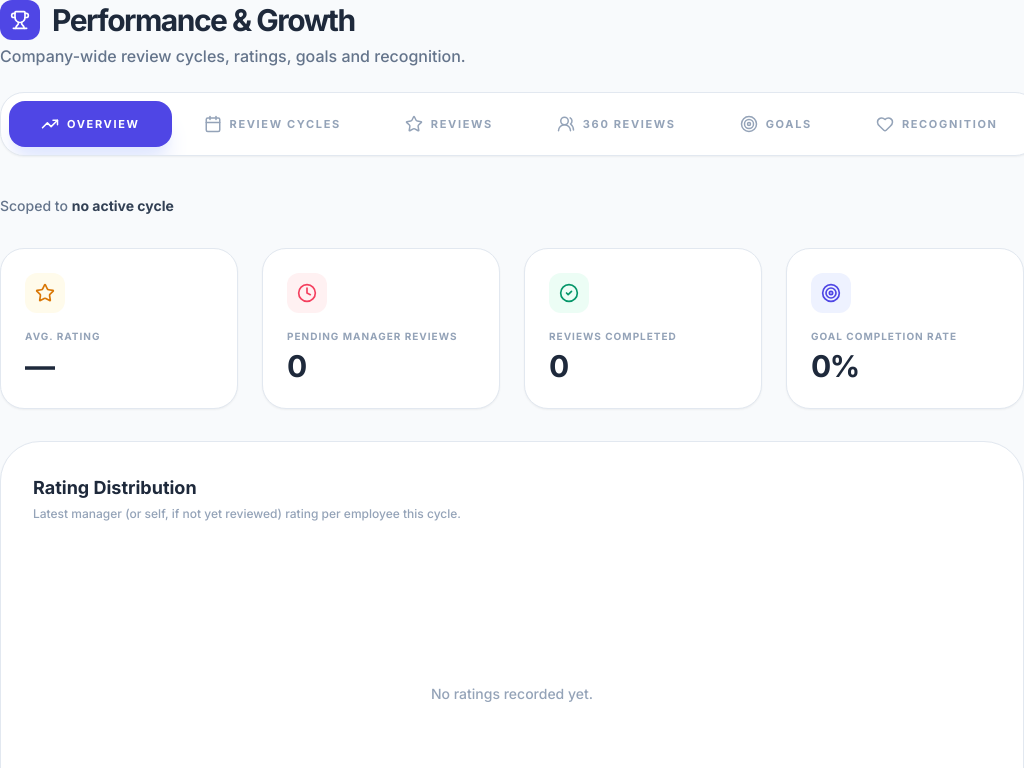
Test: PerformanceManagement (admin) › Review Cycles tab › requires a cycle name before creating
The image size is (1024, 768).
Click the button "Review Cycles".
click(272, 124)  # box [172, 101, 373, 147]
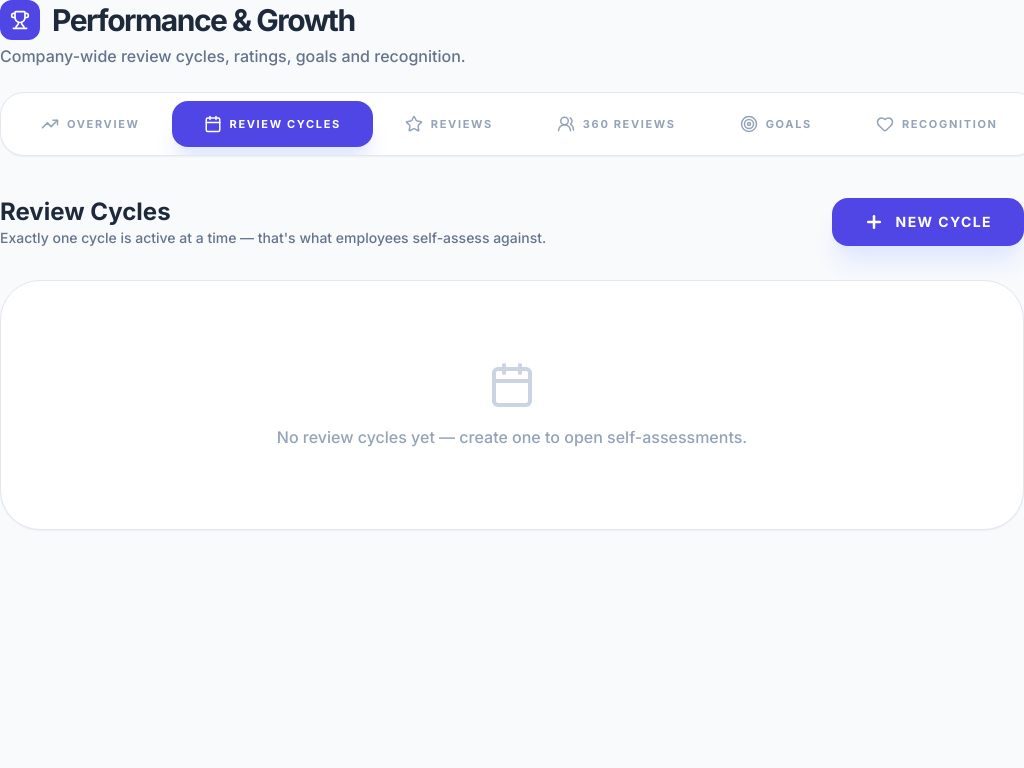
Click the button "New Cycle".
click(928, 222)  # box [832, 198, 1023, 246]
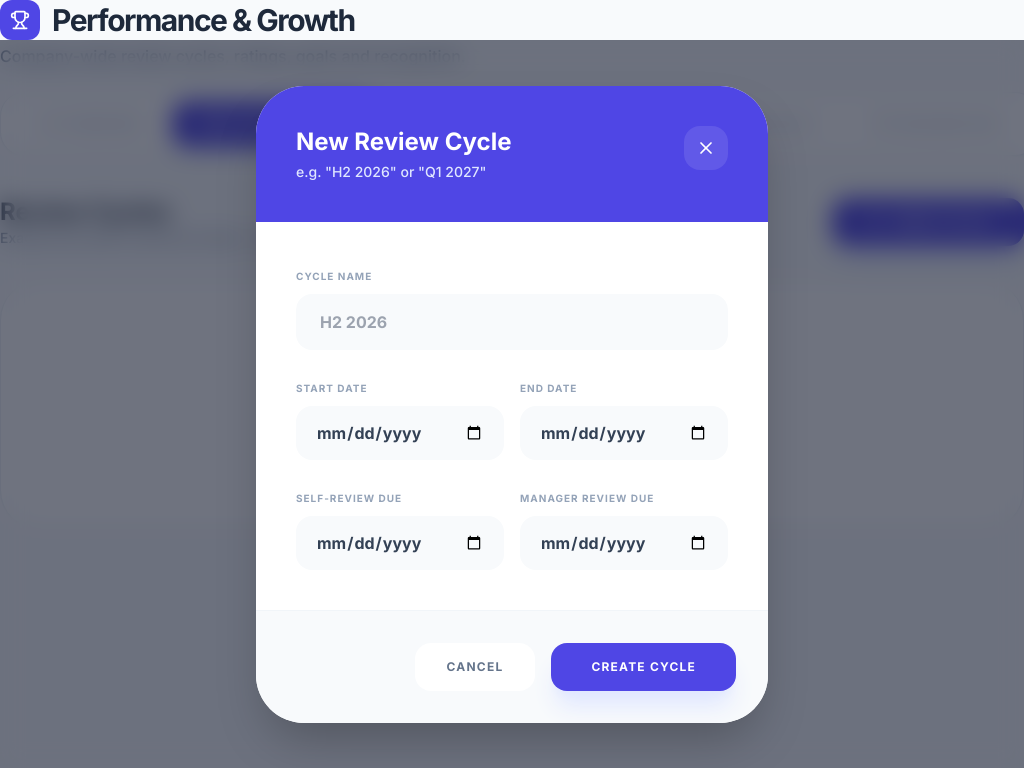
Click the button "Create Cycle".
click(644, 666)  # box [551, 642, 736, 690]
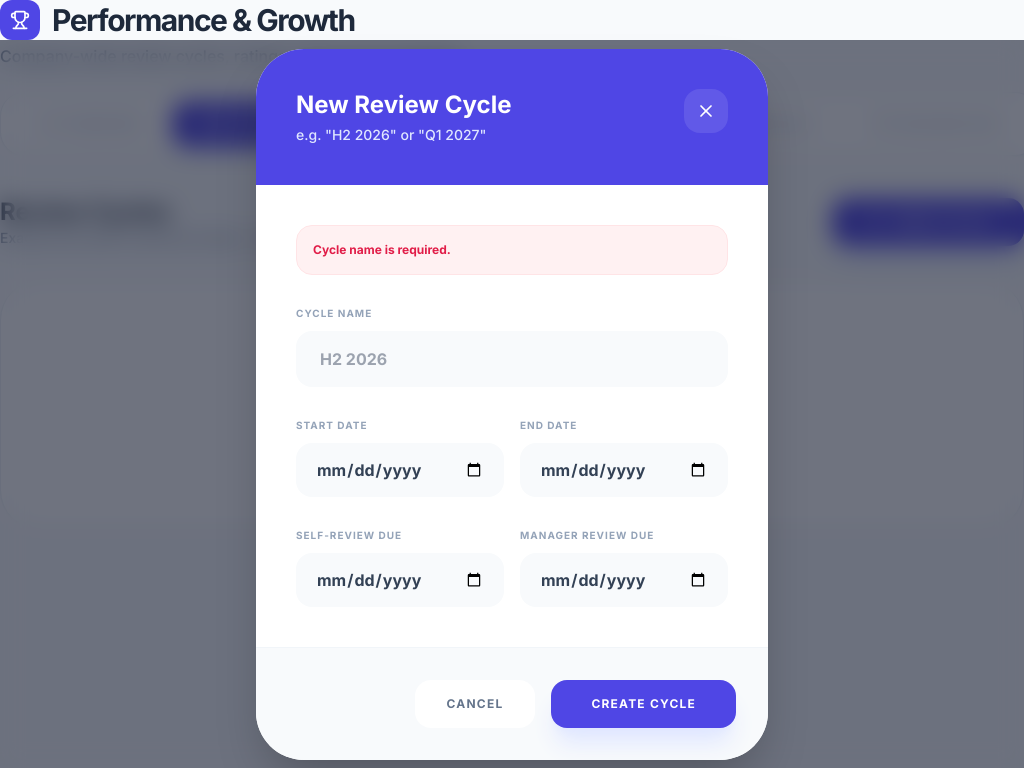
expect the text "Cycle name is required." is shown: met, box [296, 224, 728, 274]
